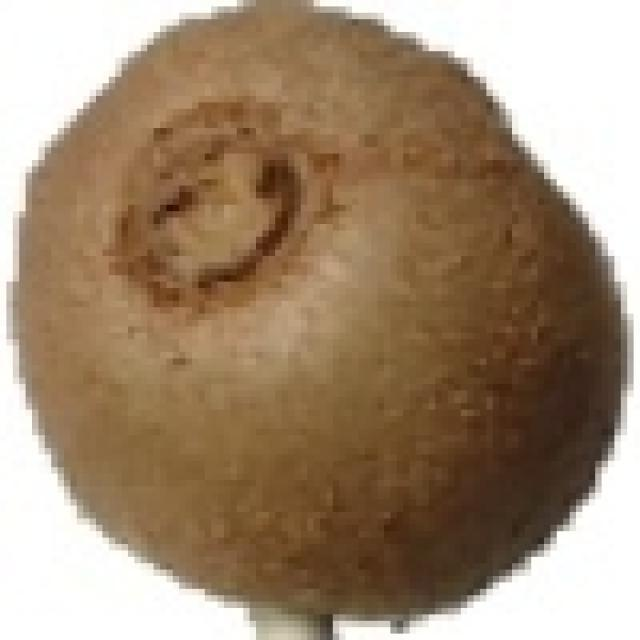kiwi: (11, 6, 622, 636)
